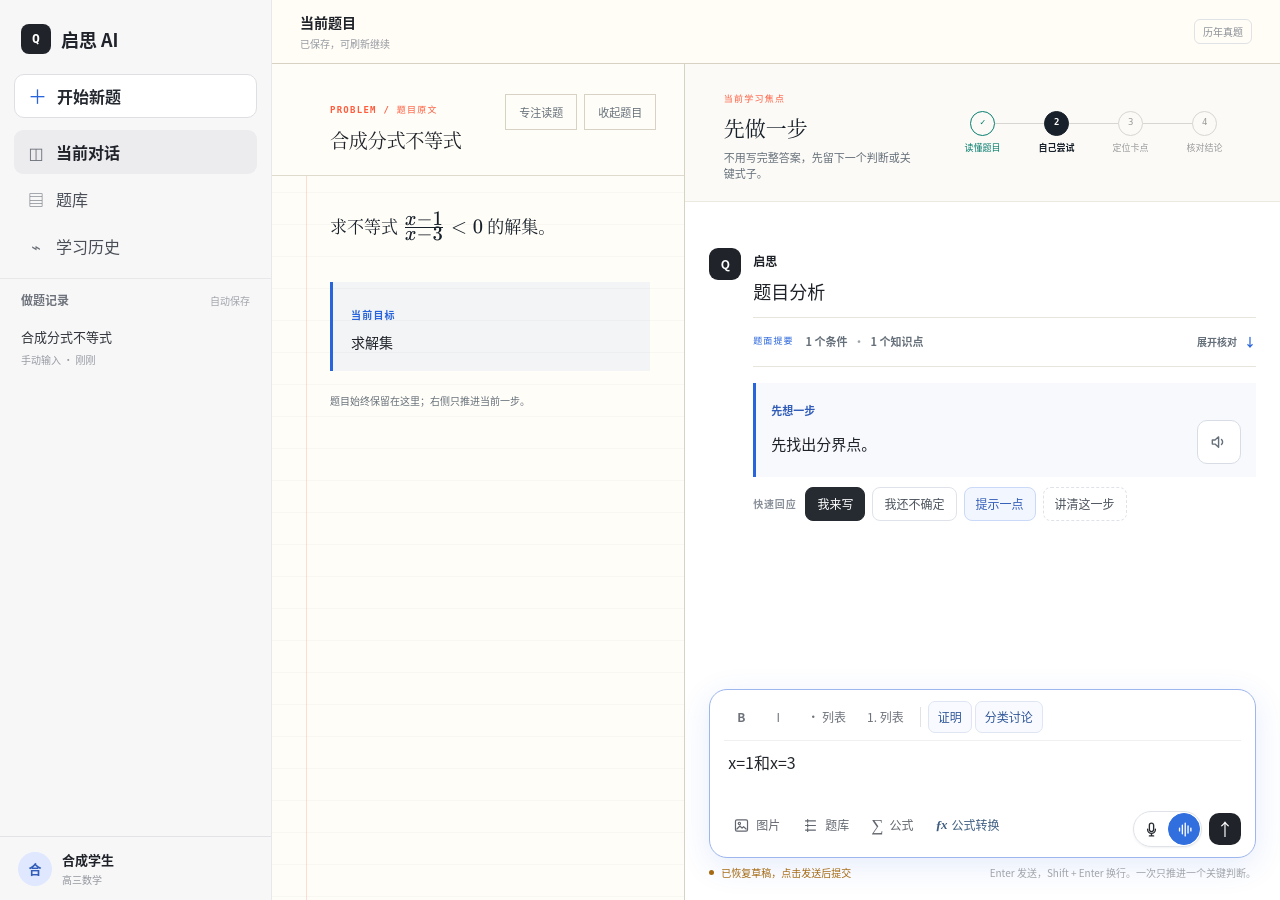
BankPage committed chat versions (real React + SSE parser, fixture server) › does not invent a new version when a turn ends with error instead of done
Expected: the heading "合成分式不等式" is shown, [330,127,462,153]
Clear the field named "输入题目或想法". click: coordinates (762, 762)
box: [728,750,796,774]
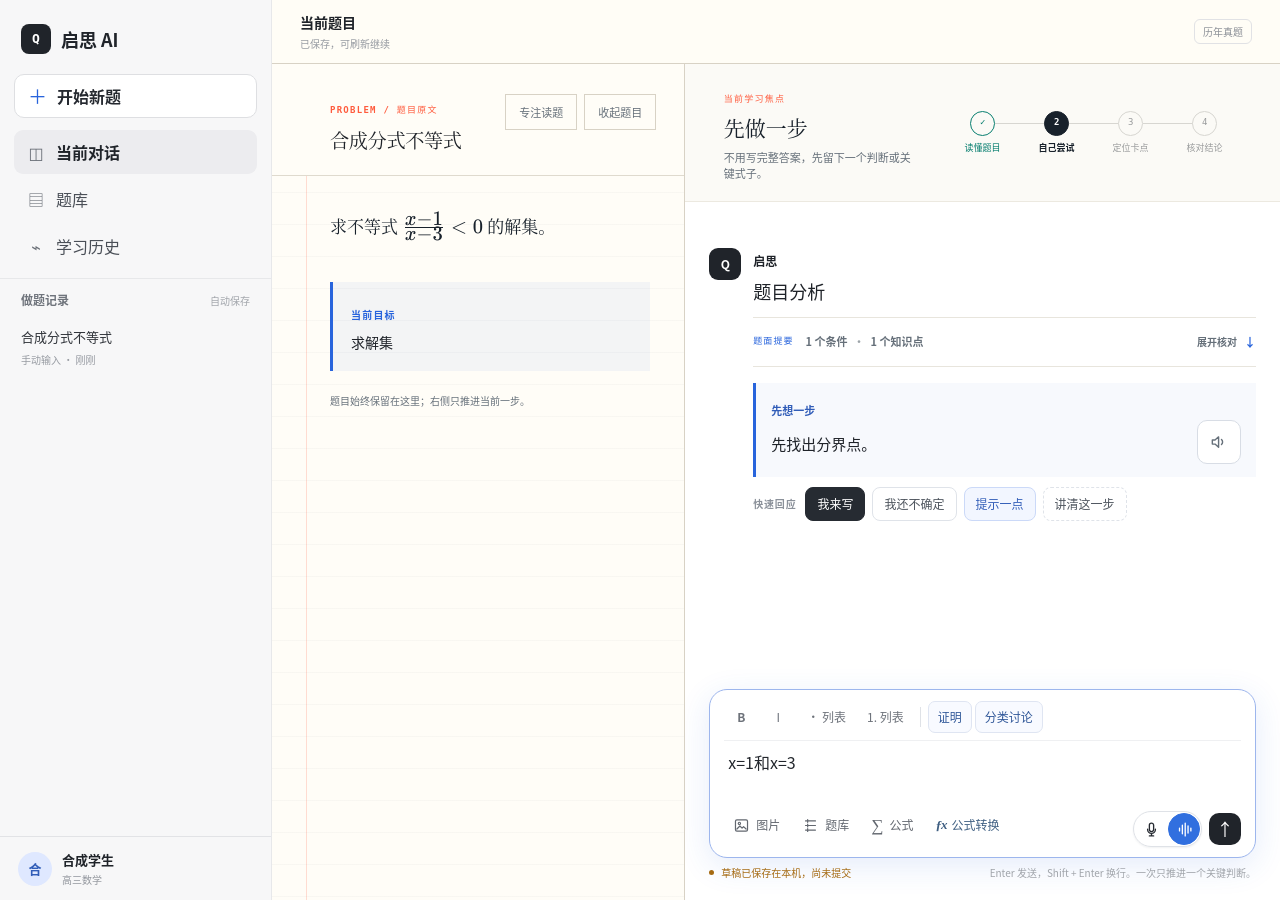
Click the button named "发送". click: coordinates (1225, 829)
box: [1209,813,1241,845]
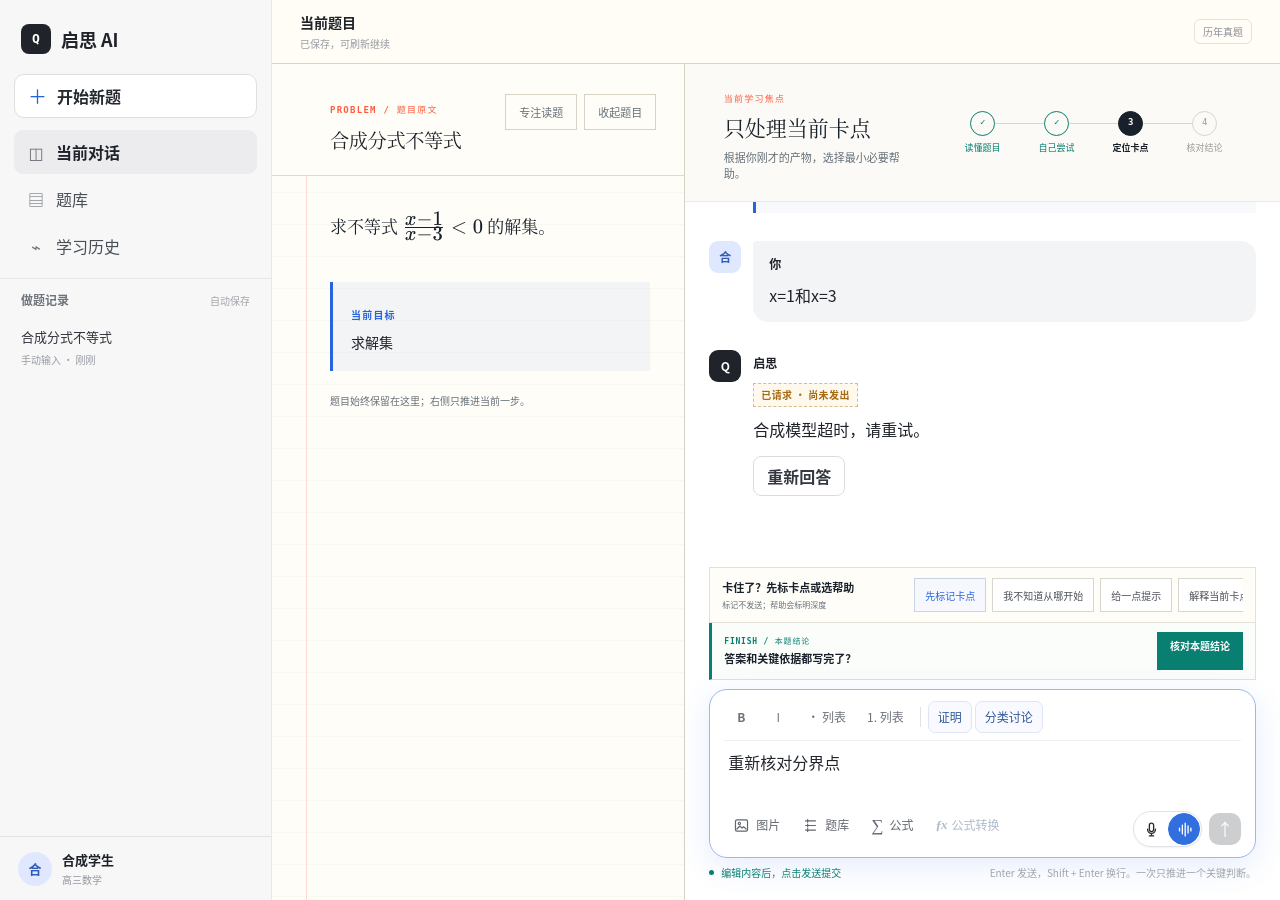
Expected: the text "合成模型超时，请重试。" is shown, [753,417,929,441]
Clear the field named "输入题目或想法". click: coordinates (784, 762)
box: [728,750,840,774]
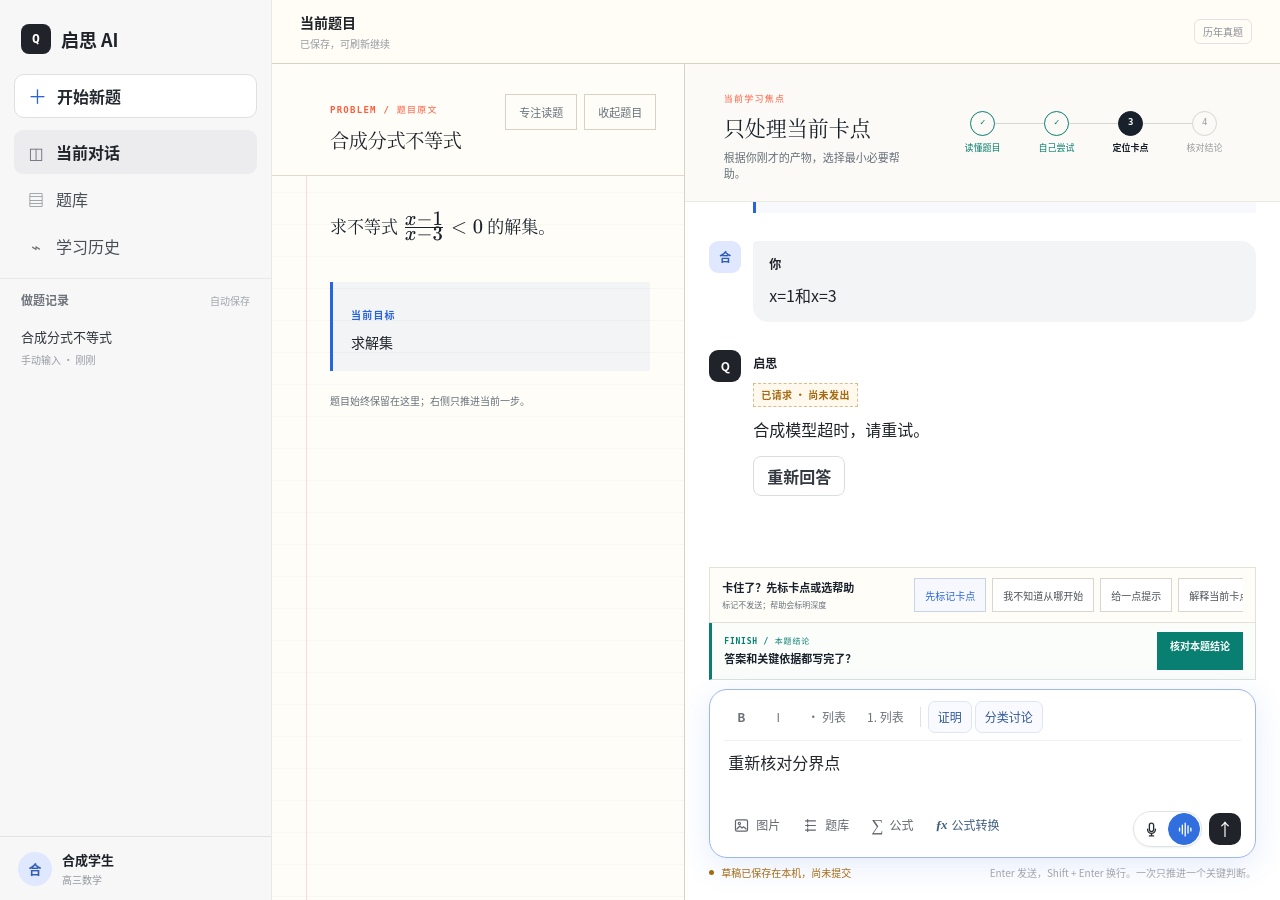
Click the button named "发送". click: coordinates (1225, 829)
box: [1209,813,1241,845]
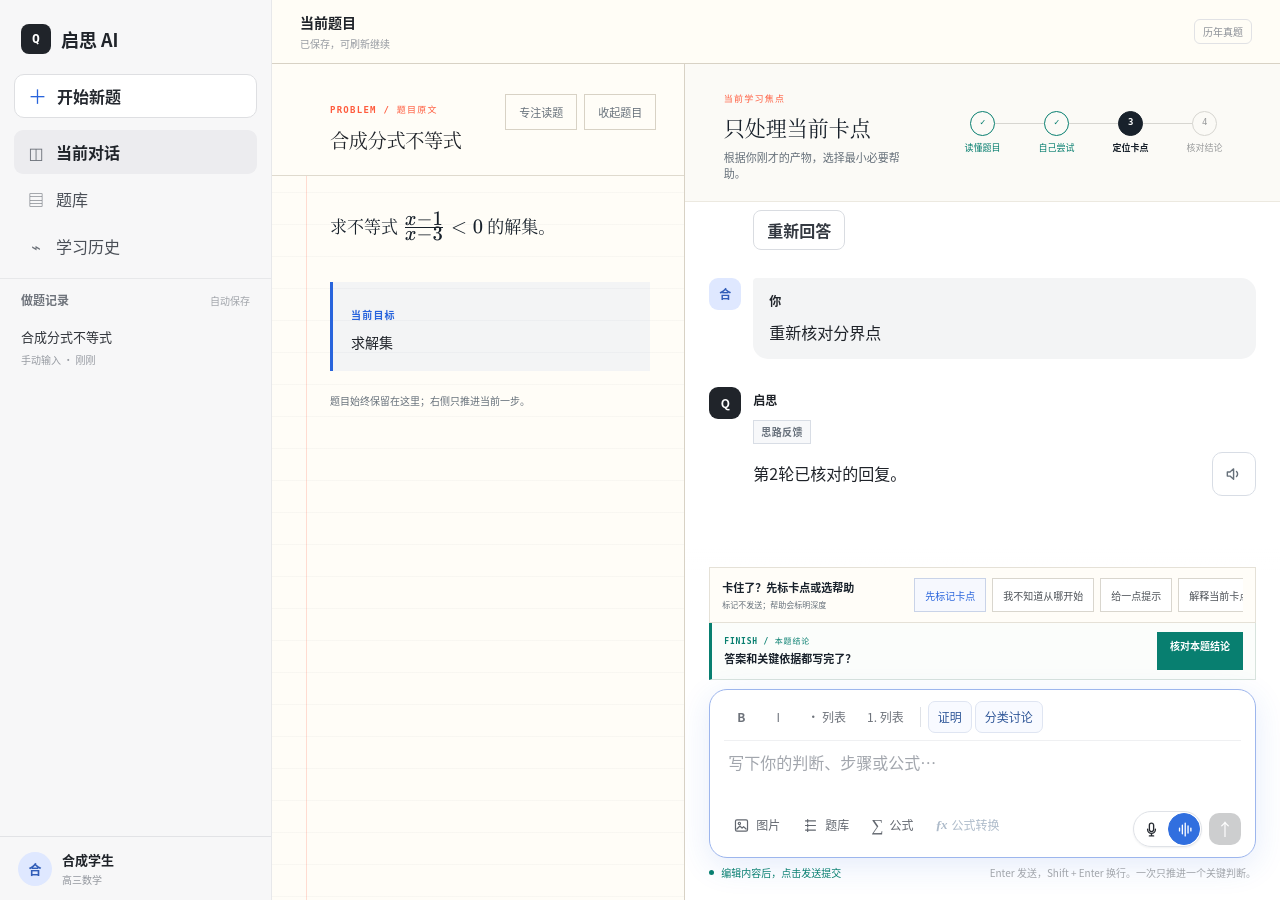
Expected: the text "第2轮已核对的回复。" is shown, [753,462,906,486]
